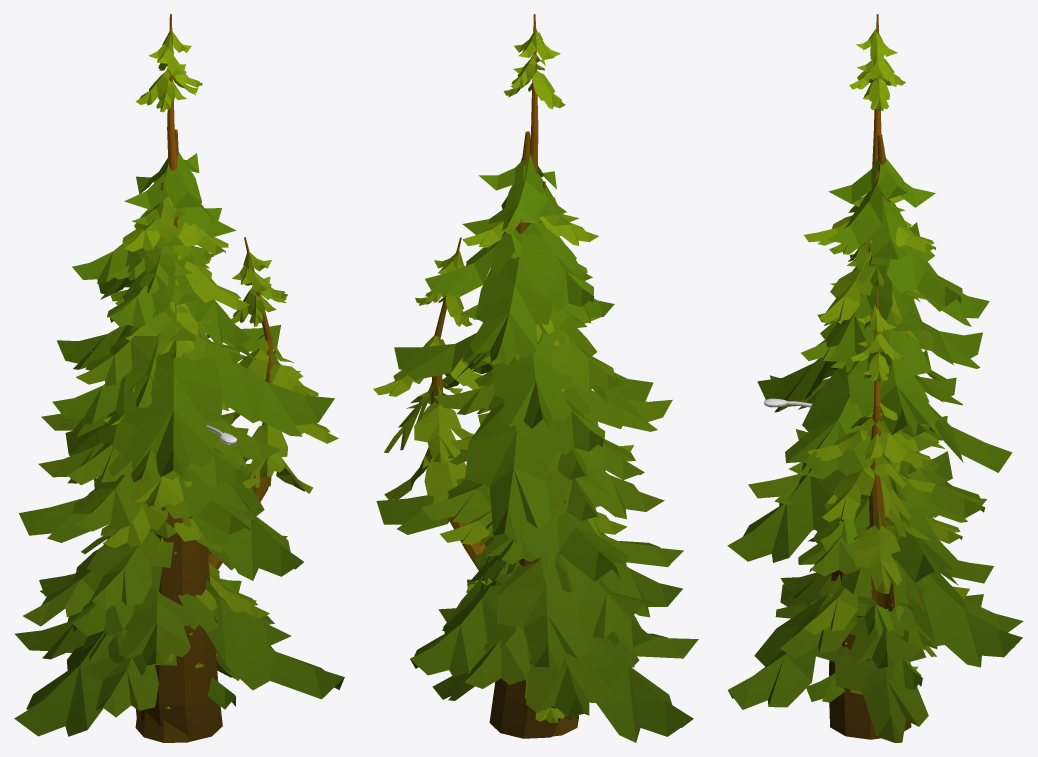
Rendered from outdoor.glb.
3 renders of one model, left to right at view 1: azimuth 30°, elevation 25°; view 2: azimuth 150°, elevation 25°; view 3: azimuth 270°, elevation 25°, orthographic.
Parts seen in each view (by area): view 1: Tree_08, Tree_05, Tree_06, Tree_04, Tree_02, Tree_07; view 2: Tree_08, Tree_05, Tree_04, Tree_06, Tree_02; view 3: Tree_08, Tree_05, Tree_04, Tree_06, Tree_02, Tree_07.
Boxes of the visible parts, left/top/right/bottom form: Tree_08: left=14, top=129, right=344, bottom=741; Tree_05: left=14, top=182, right=291, bottom=742; Tree_06: left=91, top=14, right=249, bottom=391; Tree_04: left=207, top=237, right=338, bottom=569; Tree_02: left=67, top=278, right=269, bottom=680; Tree_07: left=156, top=536, right=241, bottom=709; Tree_08: left=376, top=131, right=693, bottom=742; Tree_05: left=421, top=181, right=698, bottom=736; Tree_04: left=373, top=237, right=486, bottom=570; Tree_06: left=462, top=14, right=598, bottom=397; Tree_02: left=440, top=334, right=633, bottom=707; Tree_08: left=727, top=133, right=1022, bottom=739; Tree_05: left=748, top=194, right=1023, bottom=742; Tree_04: left=807, top=289, right=935, bottom=611; Tree_06: left=804, top=14, right=935, bottom=350; Tree_02: left=796, top=320, right=969, bottom=694; Tree_07: left=806, top=467, right=922, bottom=702.
Bounding box in the file's own units: 5.51 × 12.28 × 4.68.
